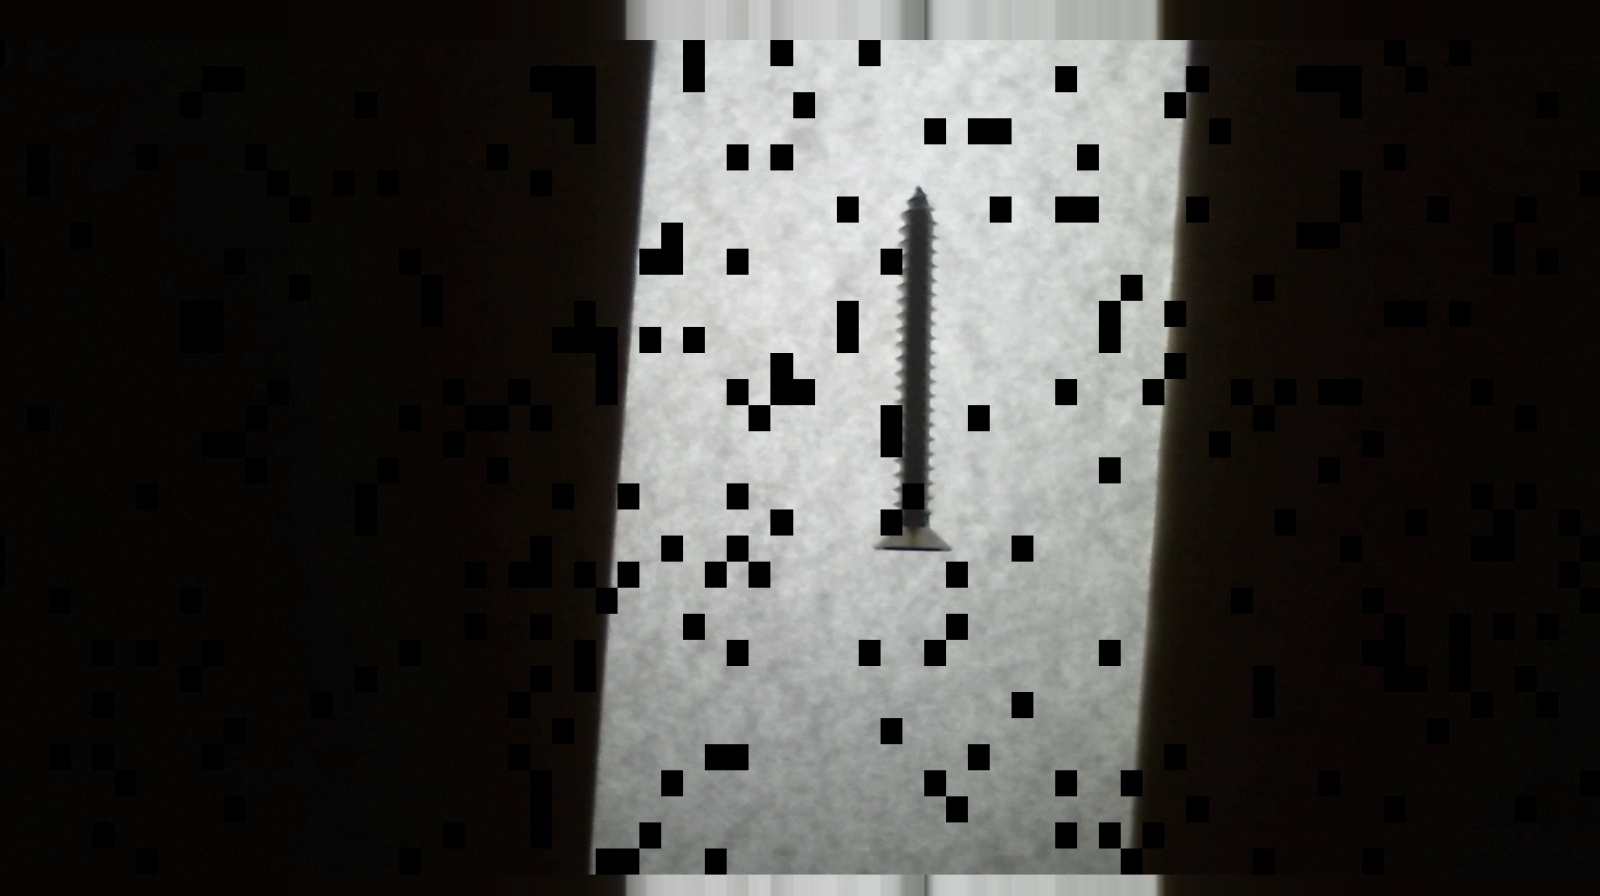S002: (843, 180, 995, 564)
